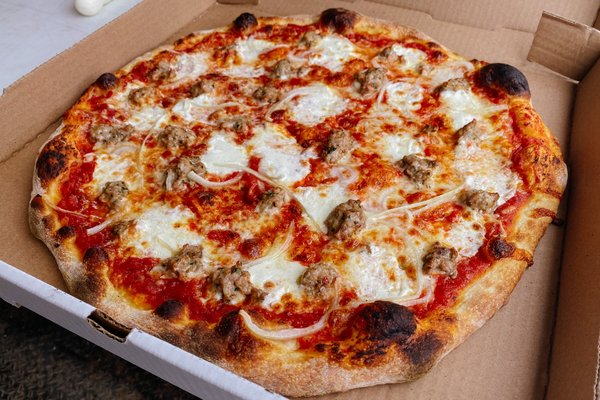curry: (1, 1, 586, 391)
sandwich: (34, 4, 560, 393)
